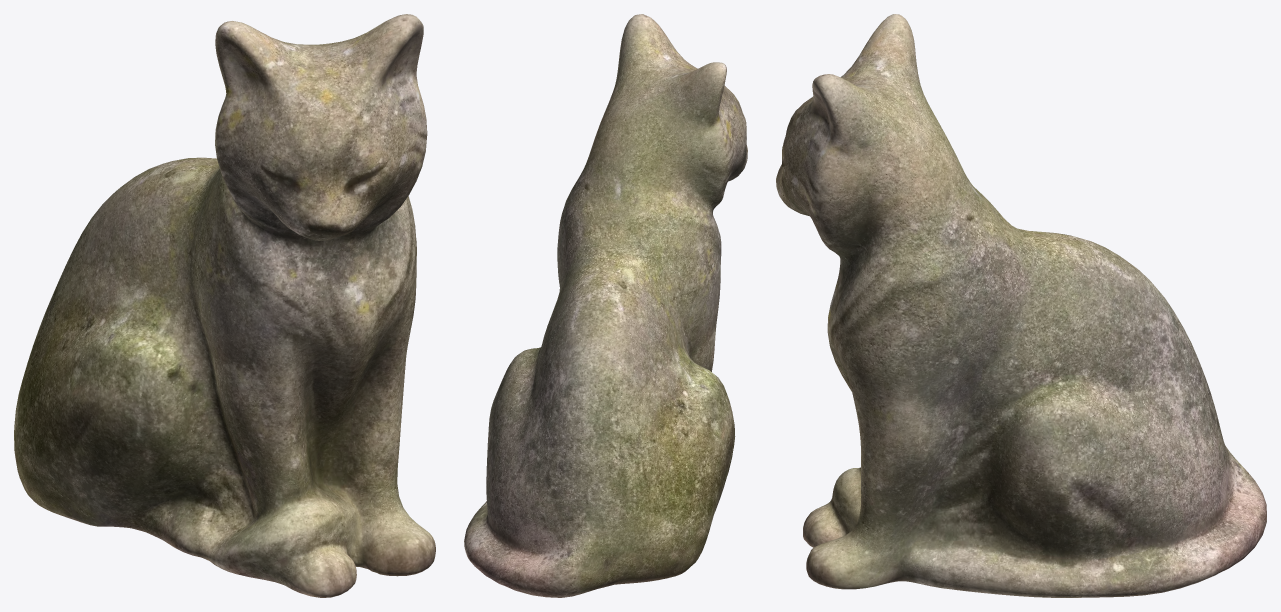
Rendered from concrete_cat_statue.glb.
3 renders of one model, left to right at view 1: azimuth 30°, elevation 25°; view 2: azimuth 150°, elevation 25°; view 3: azimuth 270°, elevation 25°, orthographic. The views are drawn at different scales.
Visible parts, largest first — view 1: concrete_cat_statue; view 2: concrete_cat_statue; view 3: concrete_cat_statue.
Part boxes in pixels (x1,y1,x2,y2): concrete_cat_statue: (14,14,435,597); concrete_cat_statue: (464,14,747,597); concrete_cat_statue: (776,14,1266,597).
Bounding box in the file's own units: 0.153 × 0.283 × 0.25.
1 material, 1 textured.
